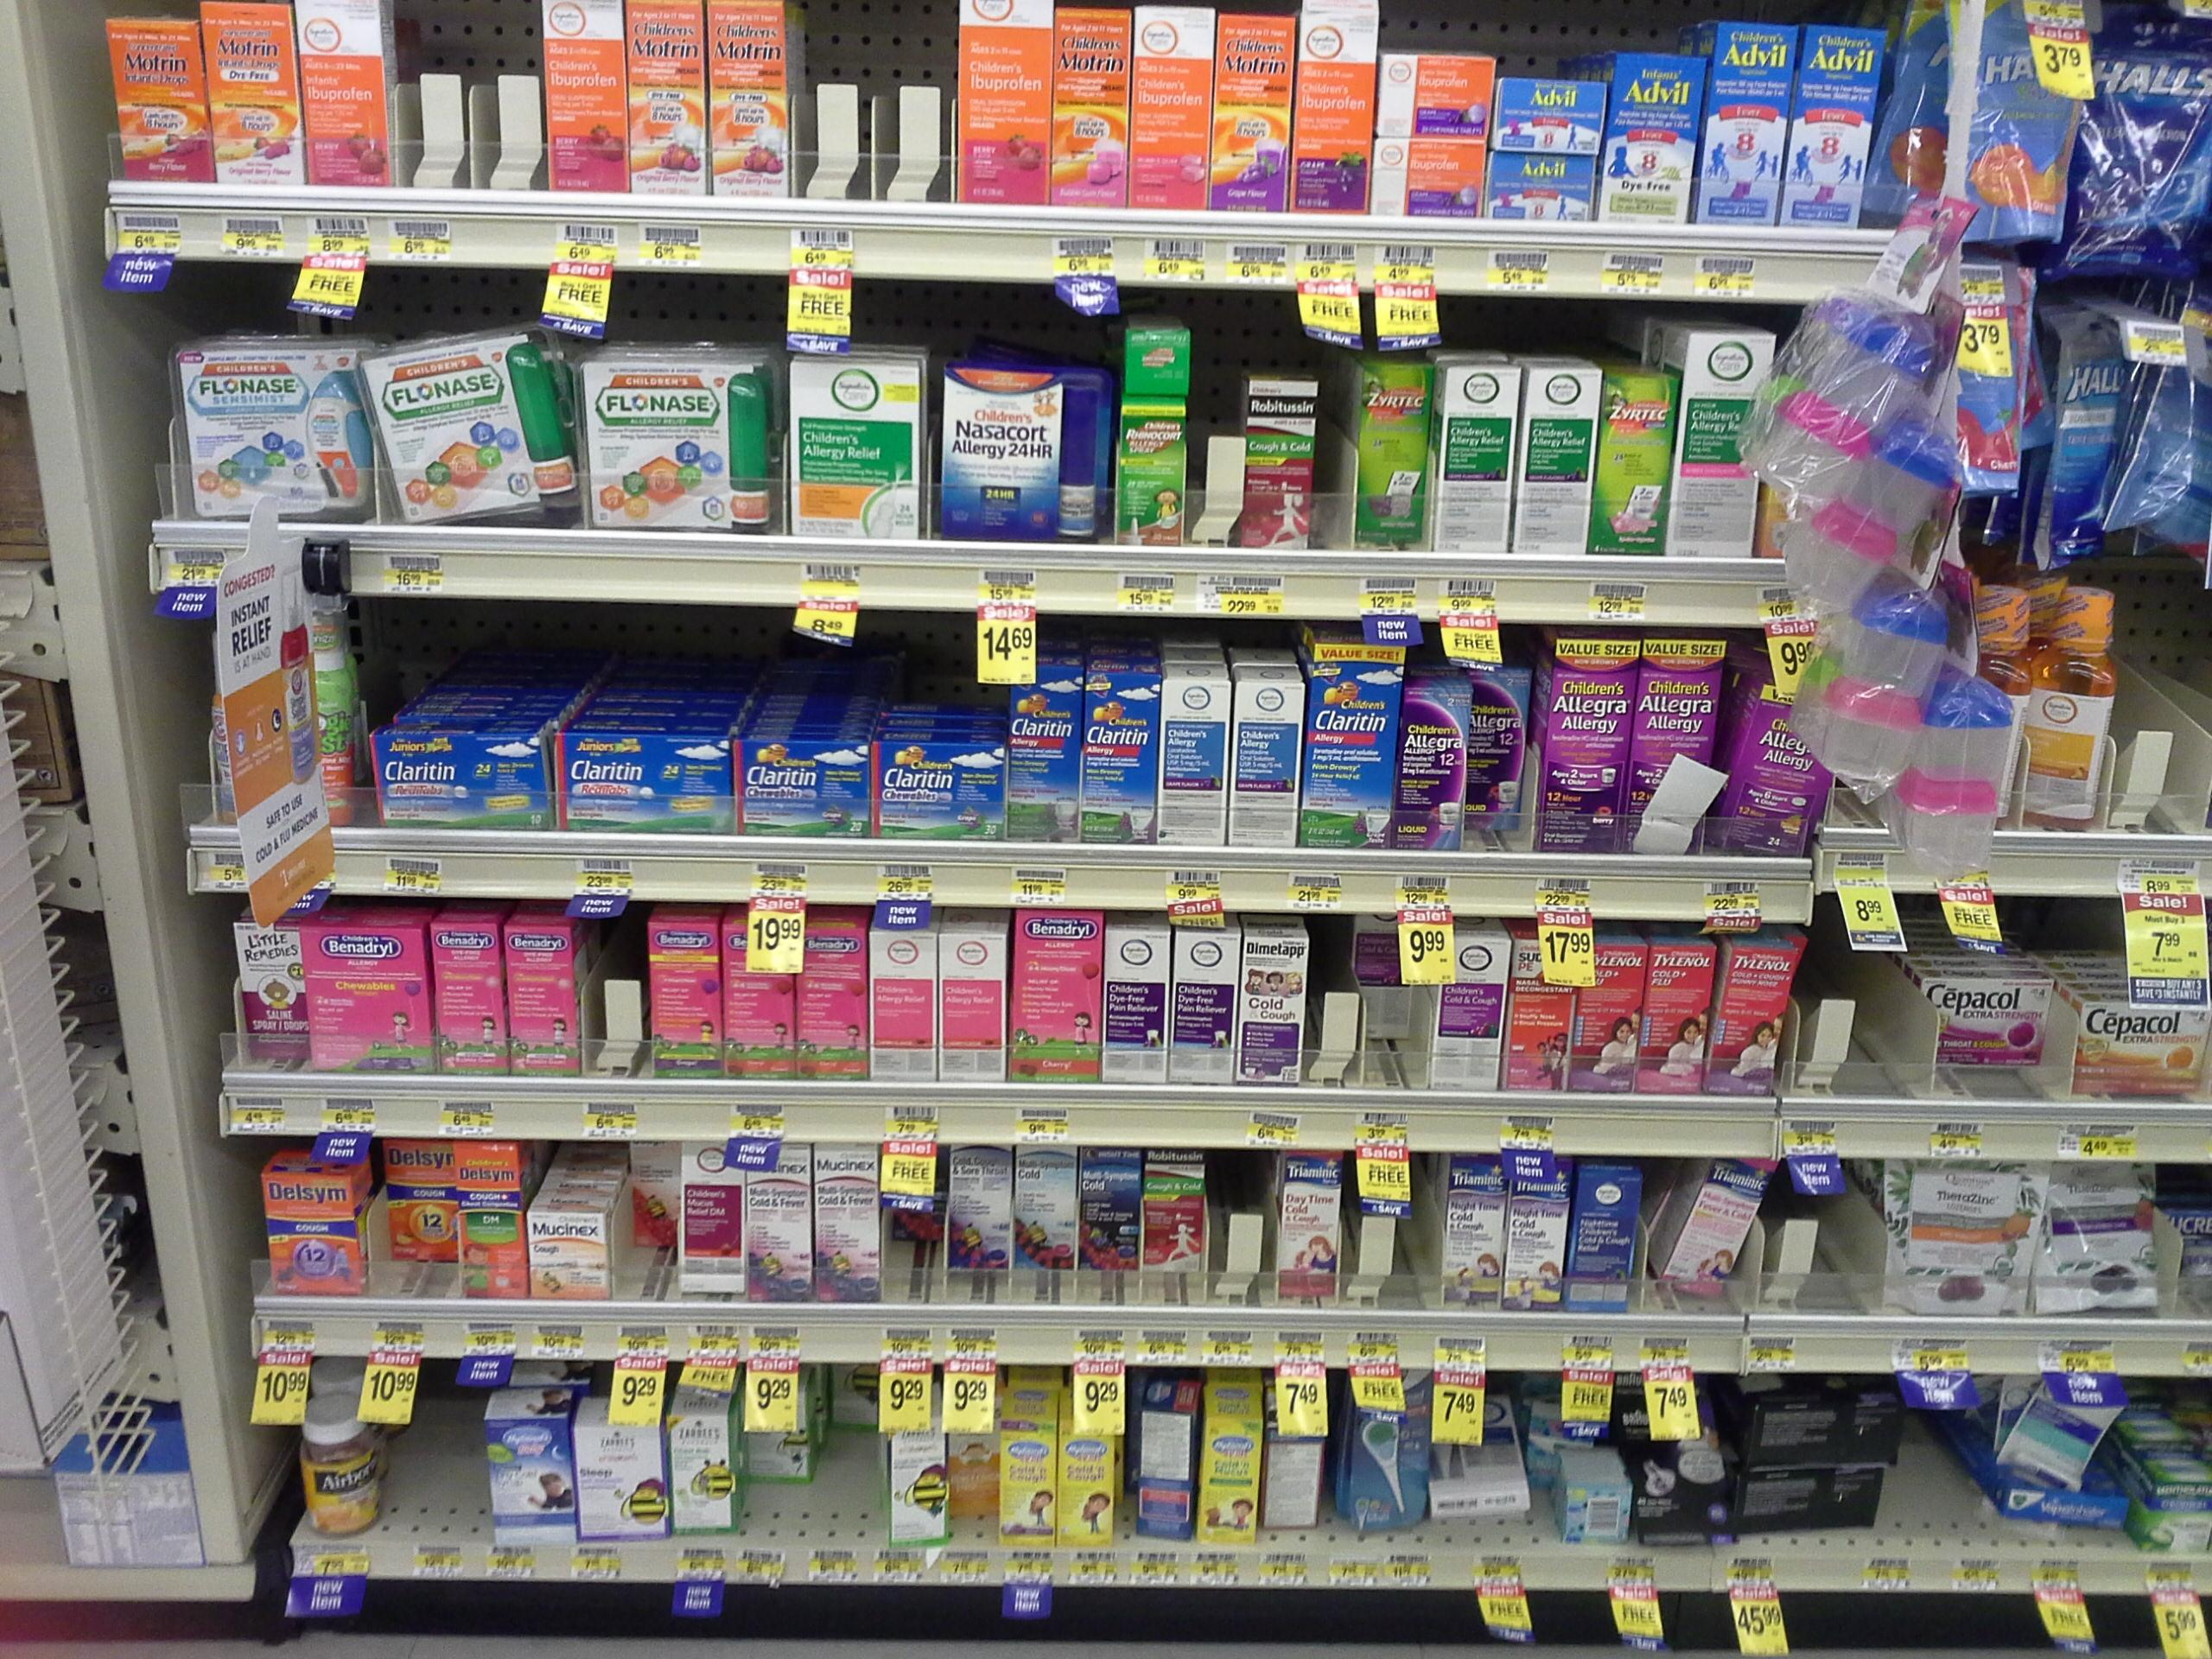misalignment: (359, 326, 575, 516), (1737, 1384, 1902, 1556), (1989, 1378, 2137, 1535), (1430, 1382, 1526, 1539), (1660, 1166, 1763, 1309), (1132, 1384, 1191, 1537), (1548, 1453, 1637, 1551), (1266, 1389, 1324, 1539)
